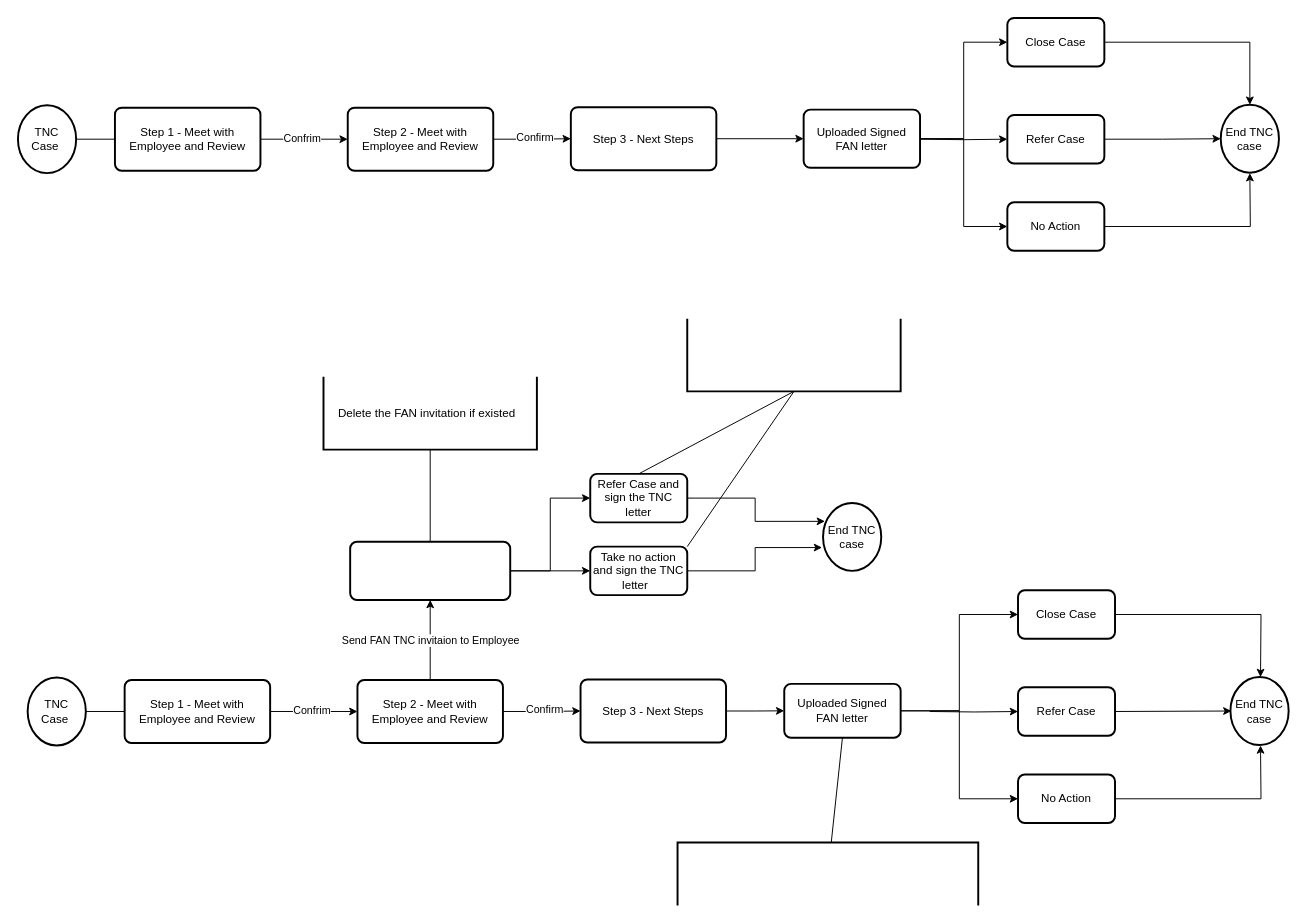
The diagram is 1306 pixels wide and 922 high, and some of its shapes have lost their labels. Each missing label, with the centre of its shape:
"1. Upload the Signed TNC FAN letter 2. Delete the FAN invitation if existed" goes at (x=827, y=873).
"Employee receive the FAN TNC invtaion" goes at (x=430, y=570).
"Save the TNC with employee signature to Form I-9 documents." goes at (x=793, y=354).
